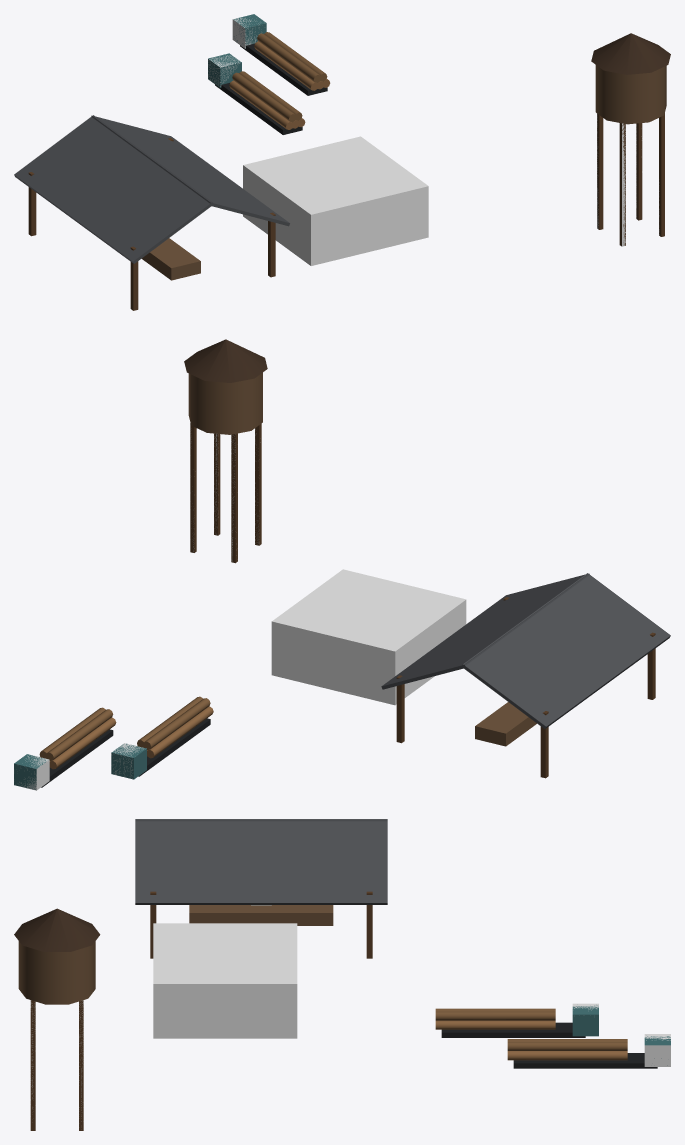
File: theme-sawmill-1.glb
The picture shows the model from 3 angles, top to bottom: view 1: azimuth 30°, elevation 25°; view 2: azimuth 150°, elevation 25°; view 3: azimuth 270°, elevation 25°; orthographic projection. The views are drawn at different scales.
Visible parts, largest first — view 1: 07_#4c4e52, solid.013, 05_#6a5038, 04_#5a3e26, 06_#3a2a1e, 03_#7a5a3a, 02_#8a6440, 00_#3f6f73_r320, 01_#1e2022, solid.005, solid.002; view 2: 07_#4c4e52, solid.013, 05_#6a5038, 04_#5a3e26, 06_#3a2a1e, 03_#7a5a3a, 00_#3f6f73_r320, 02_#8a6440, 01_#1e2022; view 3: 07_#4c4e52, solid.013, 05_#6a5038, 03_#7a5a3a, 01_#1e2022, 06_#3a2a1e, 02_#8a6440, 04_#5a3e26, 00_#3f6f73_r320, solid.002.
Boxes of the visible parts, box(x1,y1,x2,y2) form: 07_#4c4e52: box(14, 115, 289, 263); solid.013: box(243, 136, 428, 265); 05_#6a5038: box(141, 65, 666, 280); 04_#5a3e26: box(28, 113, 664, 310); 06_#3a2a1e: box(591, 33, 670, 74); 03_#7a5a3a: box(232, 32, 327, 122); 02_#8a6440: box(229, 41, 330, 129); 00_#3f6f73_r320: box(208, 14, 266, 87); 01_#1e2022: box(215, 43, 327, 134); solid.005: box(622, 123, 625, 246); solid.002: box(232, 18, 259, 48); 07_#4c4e52: box(381, 573, 670, 728); solid.013: box(271, 569, 466, 705); 05_#6a5038: box(188, 372, 536, 746); 04_#5a3e26: box(190, 423, 655, 778); 06_#3a2a1e: box(184, 339, 267, 382); 03_#7a5a3a: box(39, 696, 210, 760); 00_#3f6f73_r320: box(14, 743, 146, 789); 02_#8a6440: box(40, 706, 213, 769); 01_#1e2022: box(41, 718, 210, 787); 07_#4c4e52: box(135, 819, 387, 904); solid.013: box(153, 923, 297, 1038); 05_#6a5038: box(18, 905, 333, 1004); 03_#7a5a3a: box(435, 1008, 627, 1050); 01_#1e2022: box(441, 1022, 657, 1068); 06_#3a2a1e: box(14, 908, 100, 951); 02_#8a6440: box(435, 1020, 627, 1060); 04_#5a3e26: box(30, 891, 372, 1130); 00_#3f6f73_r320: box(572, 1005, 670, 1065); solid.002: box(644, 1034, 670, 1066).
Bounding box in the file's own units: 50.44 × 19.4 × 54.7.
